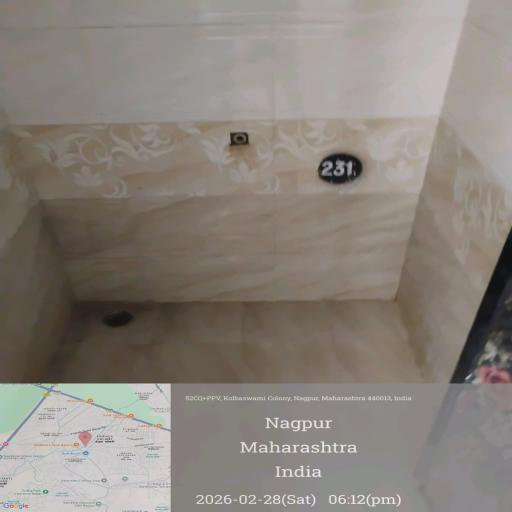clean_floor: (7, 6, 485, 480)
